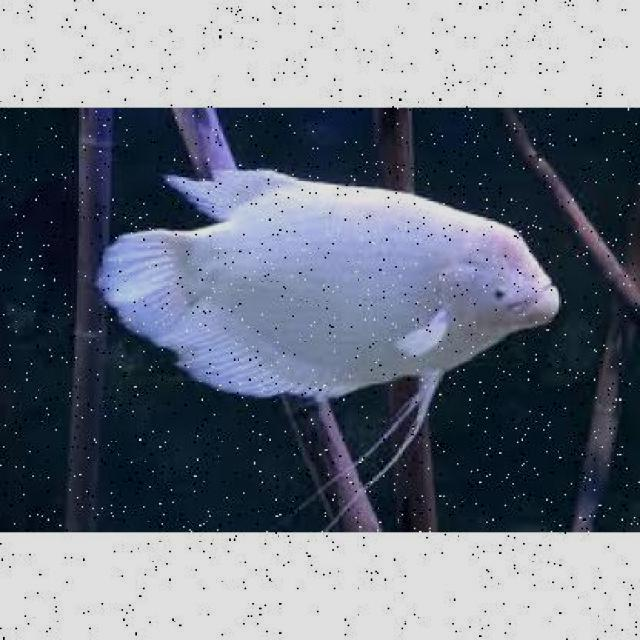gurame: (115, 173, 560, 393)
